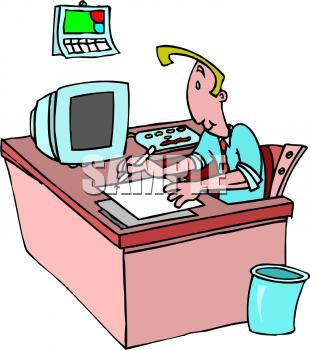person: (111, 44, 268, 206)
tvmonitor: (24, 78, 131, 166)
